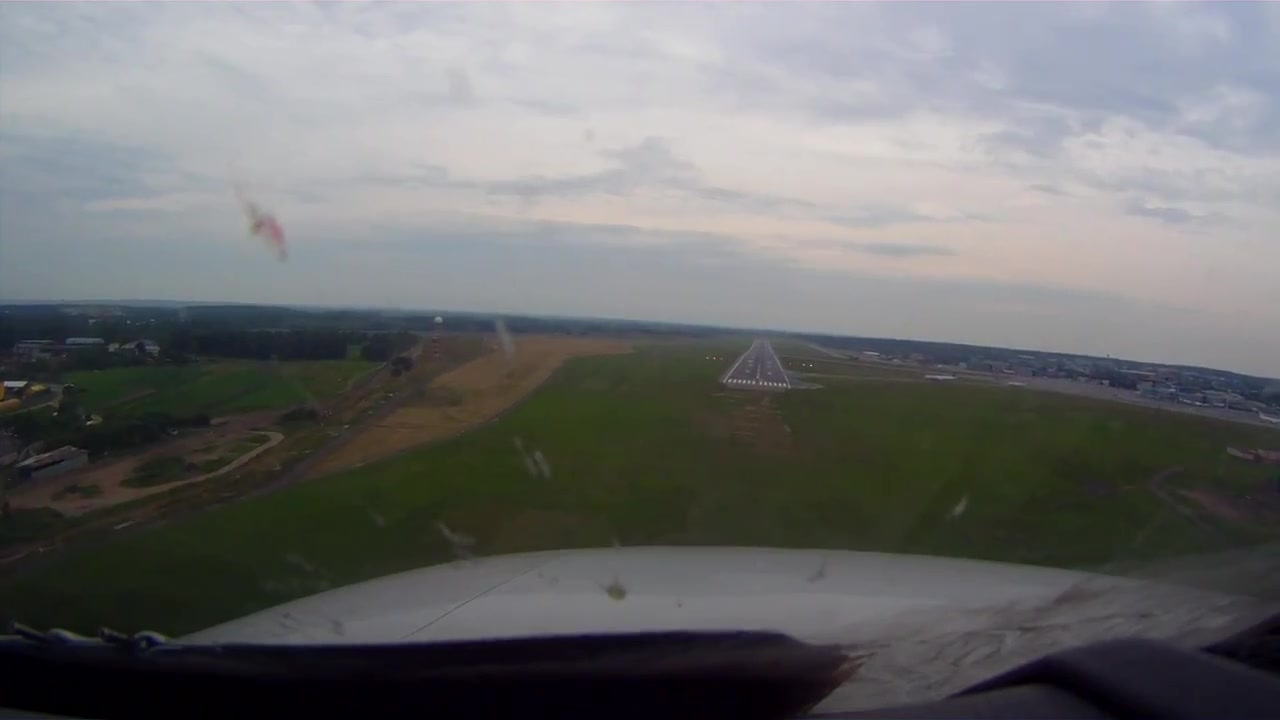entrance: (726, 377, 788, 388)
runway: (723, 339, 792, 391)
